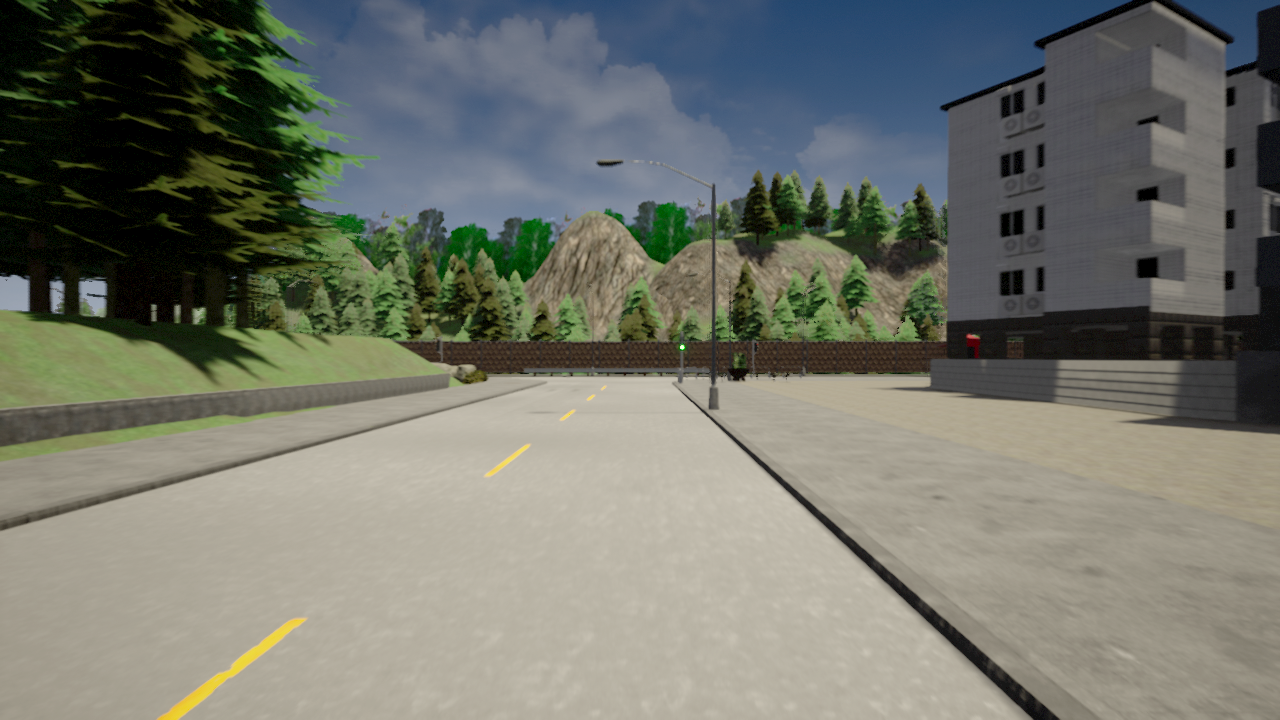green: (678, 336, 685, 351)
